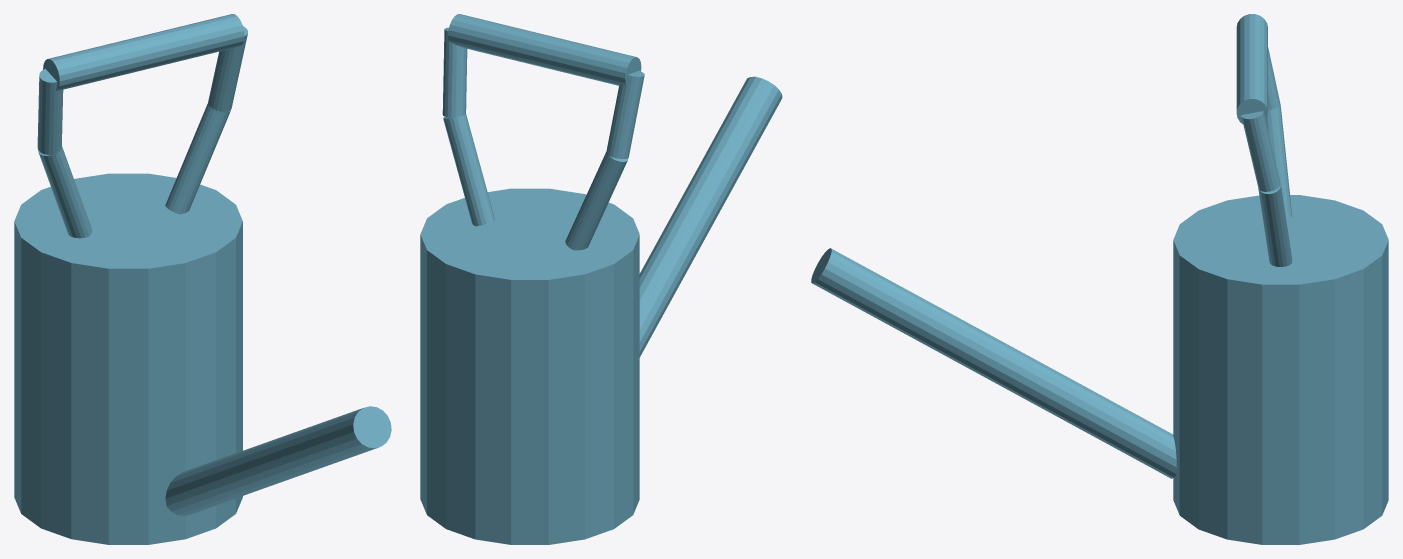
Rendered from watering_can_proxy.glb.
3 renders of one model, left to right at view 1: azimuth 30°, elevation 25°; view 2: azimuth 150°, elevation 25°; view 3: azimuth 270°, elevation 25°, orthographic. The views are drawn at different scales.
Visible parts, largest first — view 1: watering_can_proxy; view 2: watering_can_proxy; view 3: watering_can_proxy.
Part boxes in pixels (x1,y1,x2,y2): watering_can_proxy: (14,14,391,544); watering_can_proxy: (420,14,782,544); watering_can_proxy: (811,14,1388,544).
Bounding box in the file's own units: 0.1559 × 0.3408 × 0.4021.
